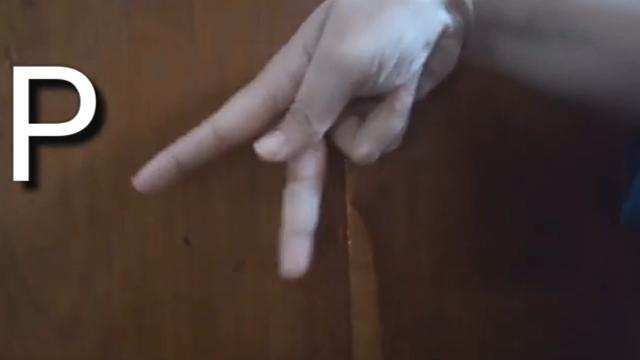P: (118, 3, 466, 287)
